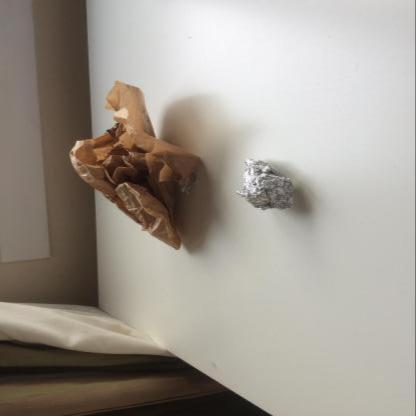Aluminium foil: (235, 159, 294, 211), (179, 167, 197, 194)
Other litter: (70, 80, 200, 250)
